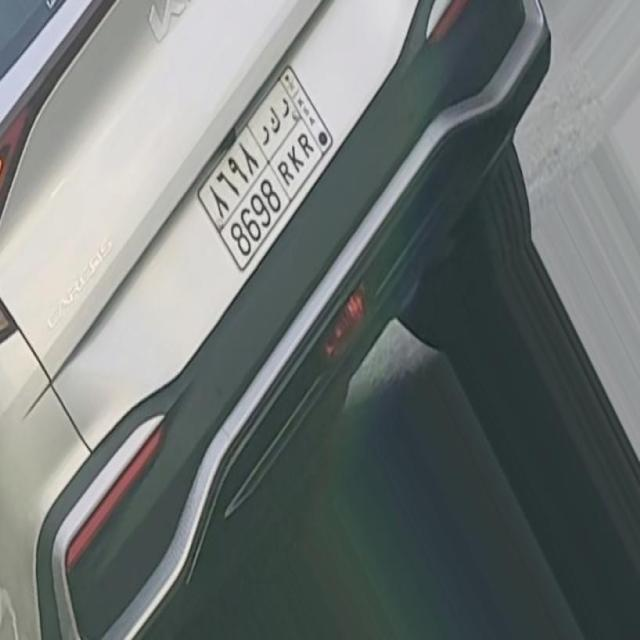Car-plate: (181, 24, 362, 304)
